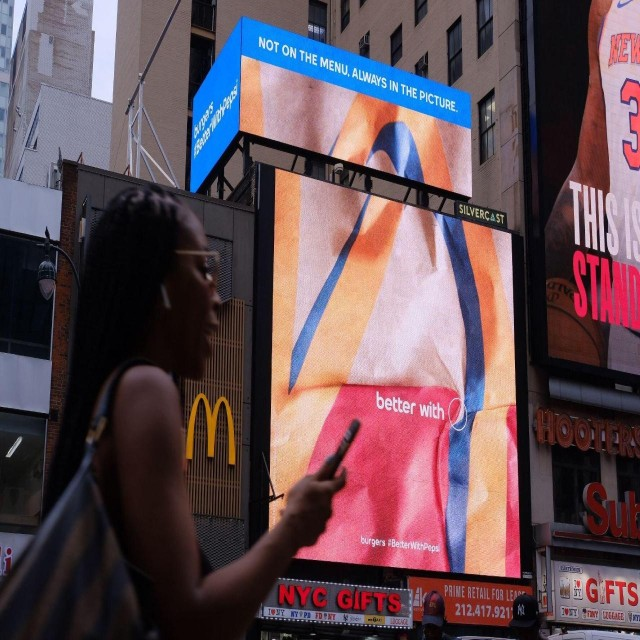pepsi: (446, 396, 471, 432)
